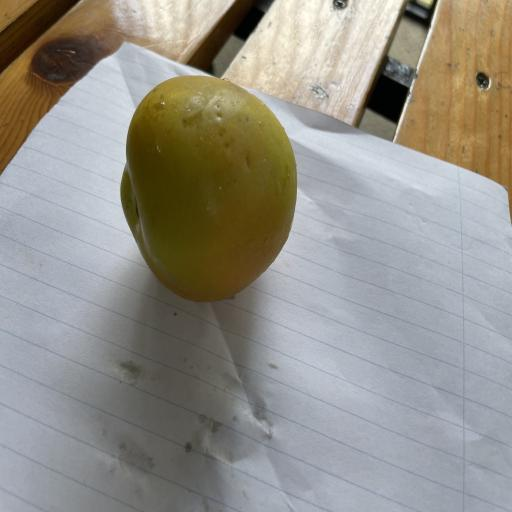unripe: (121, 76, 297, 302)
